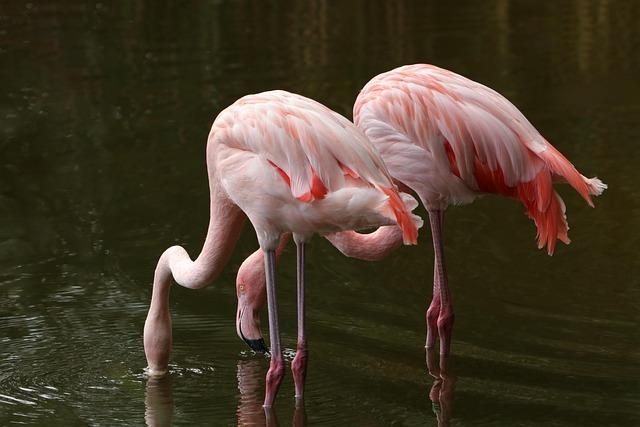Non_Gorille: (97, 5, 591, 392)
